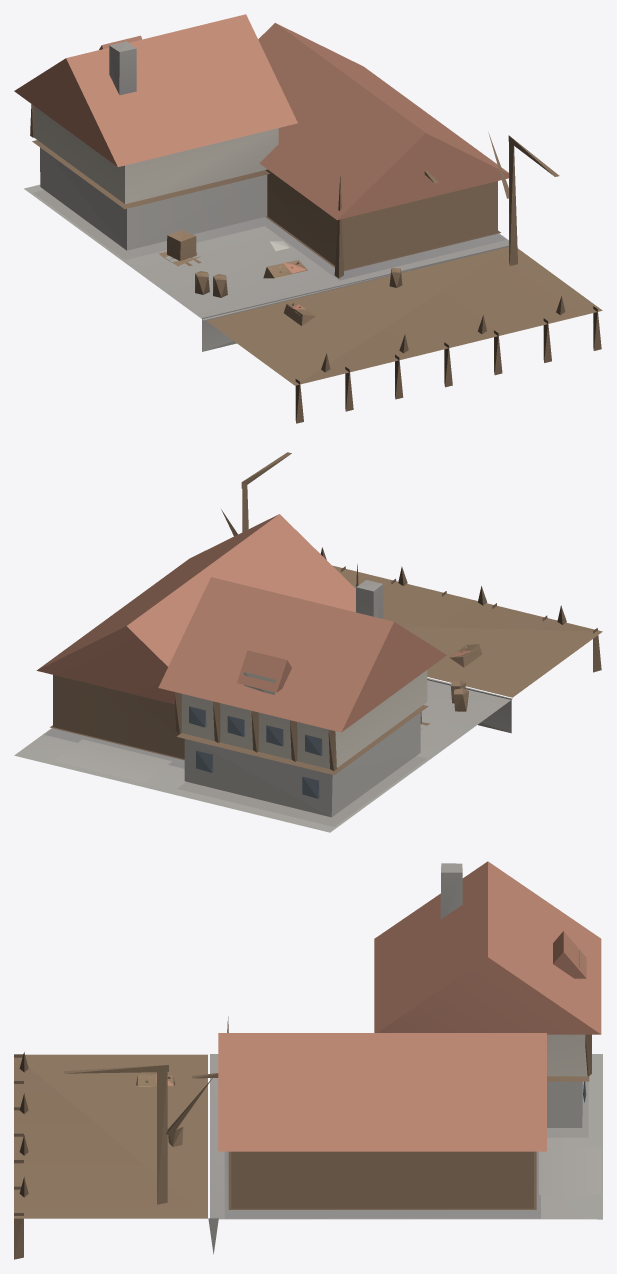
The model's file is trading_post.l3.lite.glb.
The picture shows the model from 3 angles, top to bottom: view 1: azimuth 30°, elevation 25°; view 2: azimuth 150°, elevation 25°; view 3: azimuth 270°, elevation 25°; orthographic projection. The views are drawn at different scales.
Parts seen in each view (by area): view 1: trading_post; view 2: trading_post; view 3: trading_post.
Boxes of the visible parts, bbox=[...] form: trading_post: bbox=[14, 14, 602, 423]; trading_post: bbox=[14, 452, 602, 832]; trading_post: bbox=[14, 861, 602, 1259].
Size of the model in its own units: 6.22 by 4.09 by 8.95.
